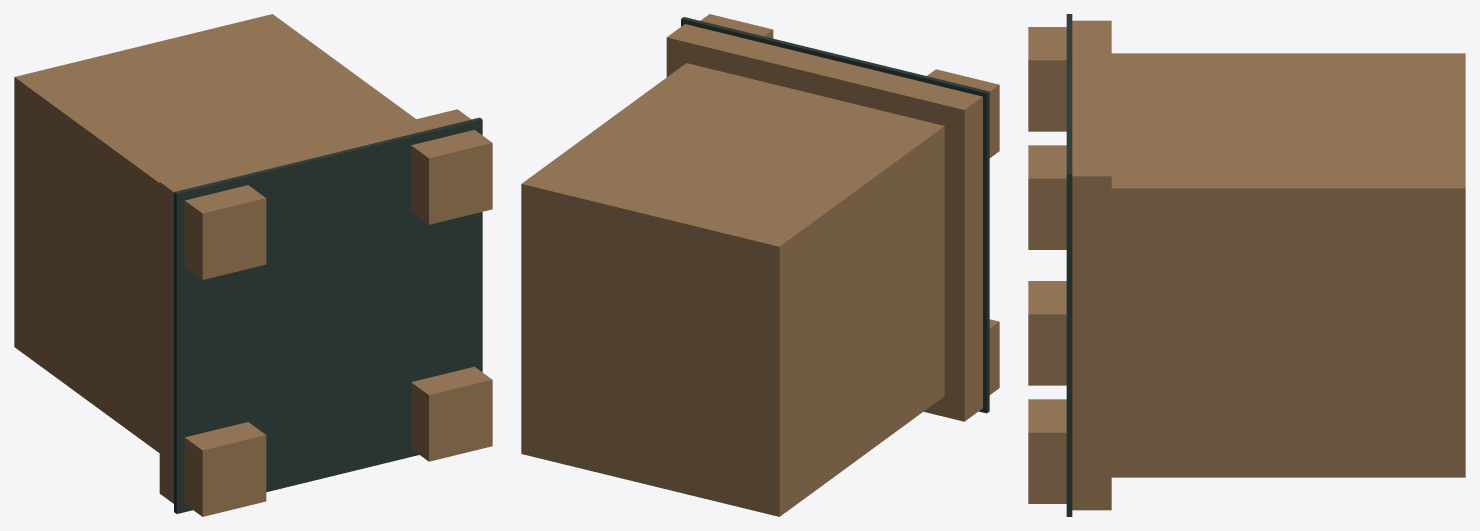
File: SM_Monolithic_Bastion_Tower.obj
The picture shows the model from 3 angles, left to right: view 1: azimuth 30°, elevation 25°; view 2: azimuth 150°, elevation 25°; view 3: azimuth 270°, elevation 25°; orthographic projection. The views are drawn at different scales.
Visible parts, largest first — view 1: SM_Monolithic_Bastion_Tower; view 2: SM_Monolithic_Bastion_Tower; view 3: SM_Monolithic_Bastion_Tower.
Part boxes in pixels (box(x1,y1,x2,y2)): SM_Monolithic_Bastion_Tower: box(14, 14, 492, 516); SM_Monolithic_Bastion_Tower: box(521, 14, 999, 516); SM_Monolithic_Bastion_Tower: box(1028, 14, 1465, 516).
Bounding box in the file's own units: 770 × 770 × 890.
